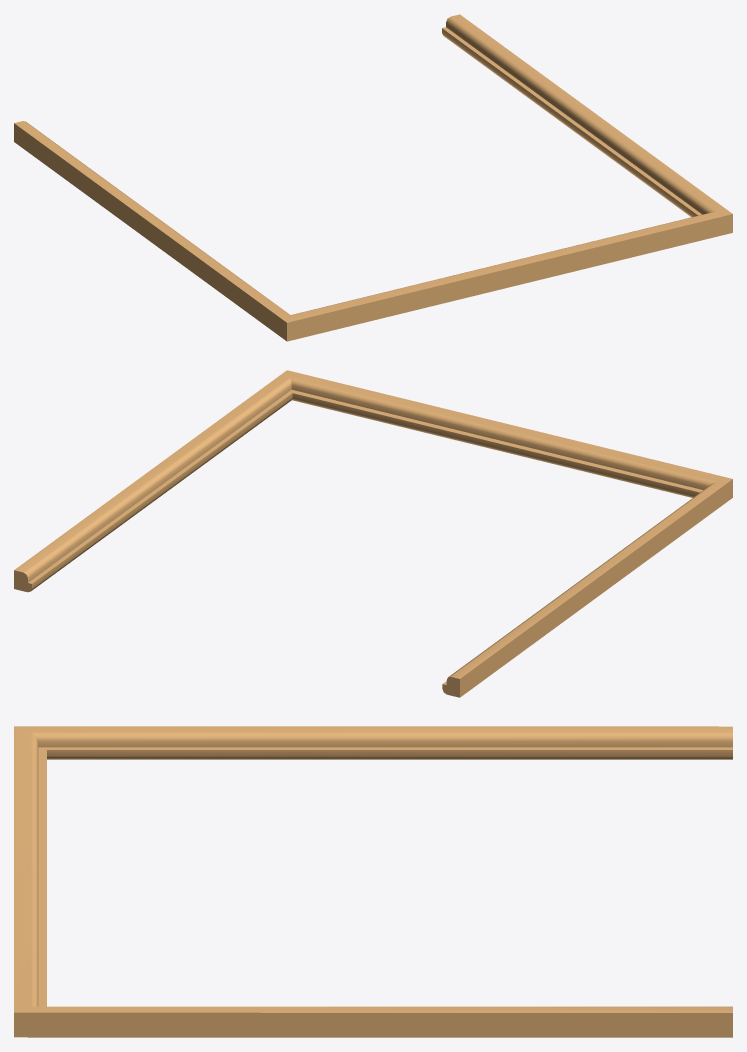
Rendered from MeshDoorwayDouble_6_4.obj.
3 renders of one model, top to bottom at view 1: azimuth 30°, elevation 25°; view 2: azimuth 150°, elevation 25°; view 3: azimuth 270°, elevation 25°, orthographic. The views are drawn at different scales.
Parts seen in each view (by area): view 1: DoorwayDouble_6; view 2: DoorwayDouble_6; view 3: DoorwayDouble_6.
Boxes of the visible parts, left/top/right/bottom form: DoorwayDouble_6: left=14, top=14, right=732, bottom=341; DoorwayDouble_6: left=14, top=370, right=732, bottom=697; DoorwayDouble_6: left=14, top=726, right=732, bottom=1037.
Size of the model in its own units: 1.99 by 0.0807 by 2.11.
